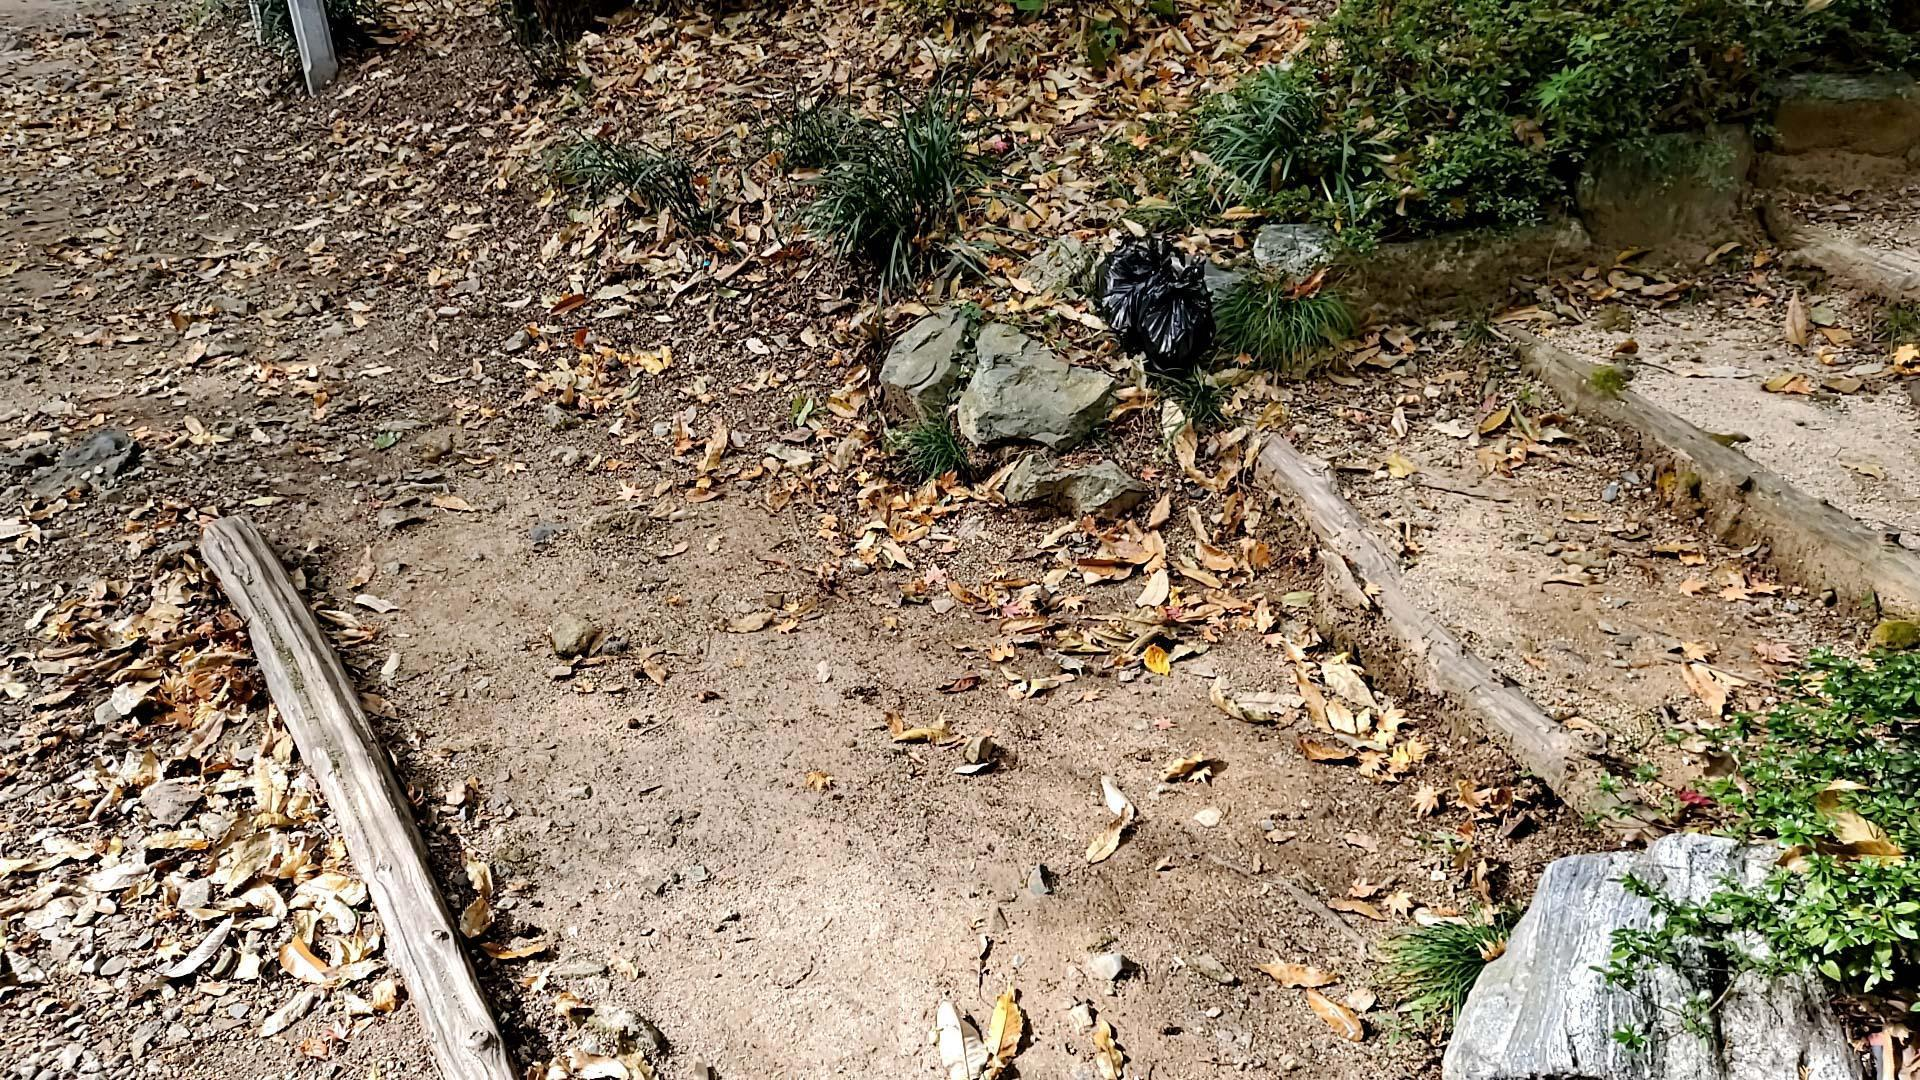white_bag: (1085, 235, 1226, 382)
